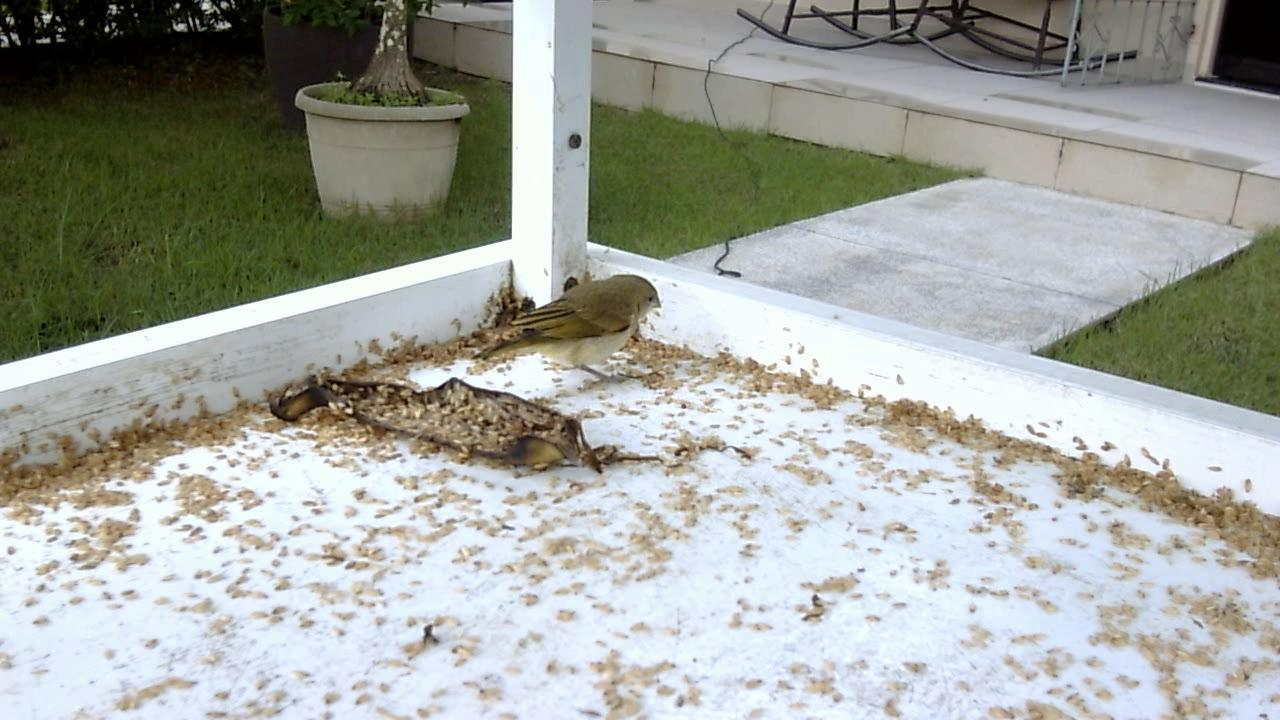canario_do_amazonas: (466, 267, 671, 400)
